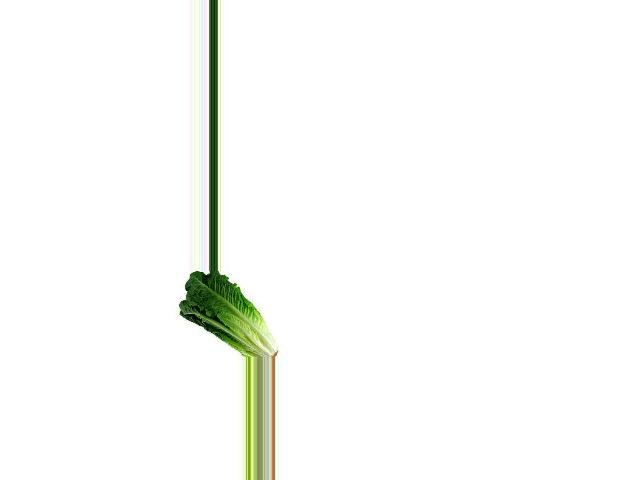lettuce: (177, 271, 279, 357)
